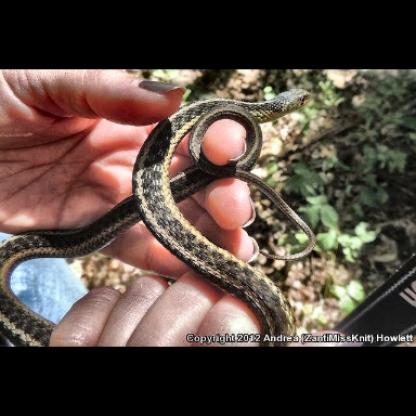Snake: (125, 82, 350, 344)
